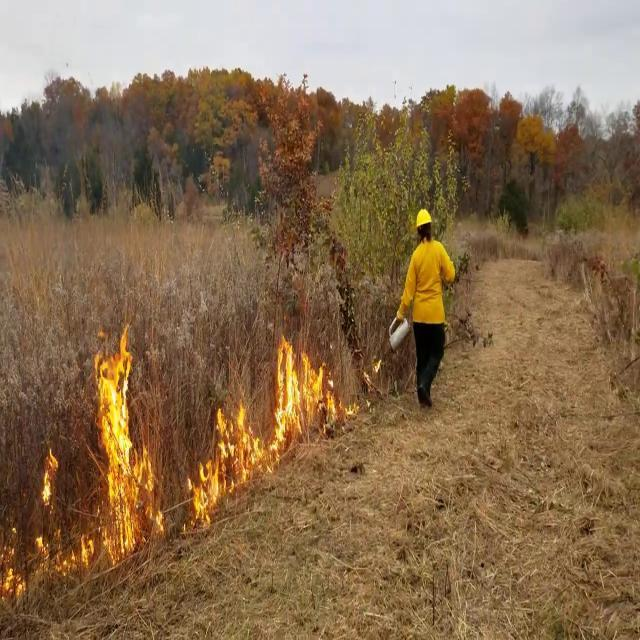Fire: (90, 321, 160, 562), (0, 443, 64, 601), (188, 388, 264, 520), (271, 326, 337, 447)
